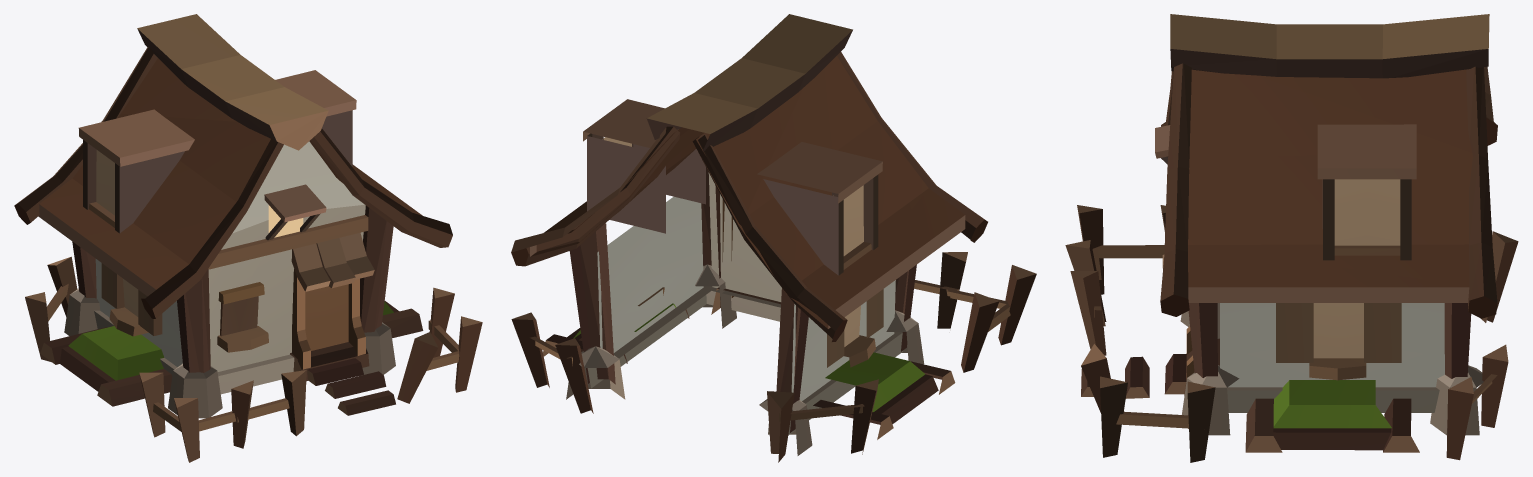
The model's file is building29.fbx.
3 views of the same model, side by side, from view 1: azimuth 30°, elevation 25°; view 2: azimuth 150°, elevation 25°; view 3: azimuth 270°, elevation 25° (orthographic). The views are drawn at different scales.
Visible parts, largest first — view 1: building29; view 2: building29; view 3: building29.
Part boxes in pixels (bbox=[...]): building29: bbox=[14, 14, 482, 462]; building29: bbox=[511, 14, 1036, 462]; building29: bbox=[1065, 14, 1518, 462].
Bounding box in the file's own units: 2.16 × 1.82 × 2.15.
1 material, 1 textured.
